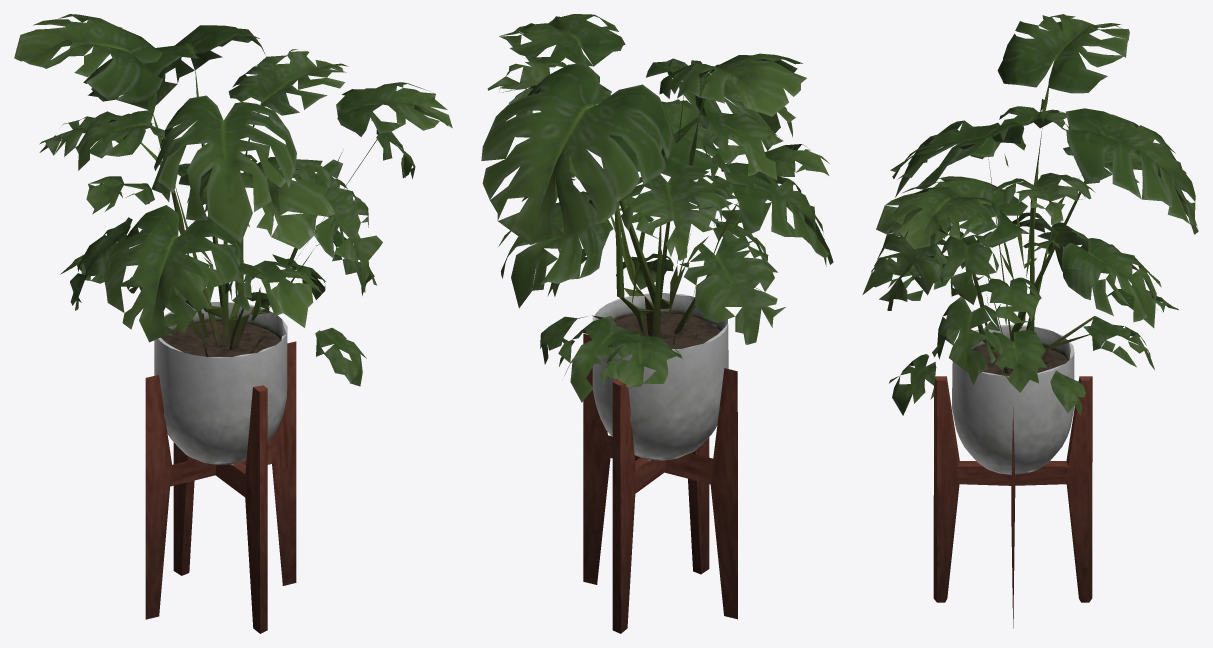
The model's file is plant_monstera.glb.
3 views of the same model, side by side, from view 1: azimuth 30°, elevation 25°; view 2: azimuth 150°, elevation 25°; view 3: azimuth 270°, elevation 25° (orthographic). The views are drawn at different scales.
Parts seen in each view (by area): view 1: mesh; view 2: mesh; view 3: mesh.
Part boxes in pixels (x1,y1,x2,y2): mesh: (14,14,452,633); mesh: (481,14,833,633); mesh: (862,14,1198,628).
Bounding box in the file's own units: 0.8348 × 1.3 × 0.7556.
1 material, 1 textured.
